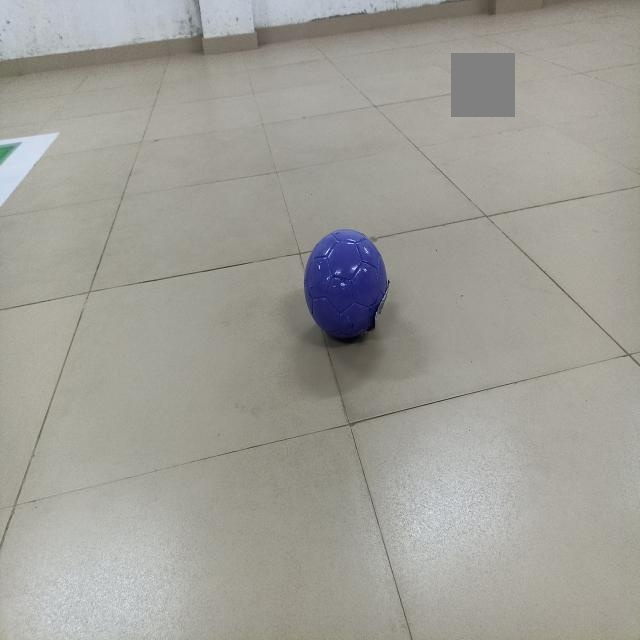purple_ball: (306, 234, 382, 337)
